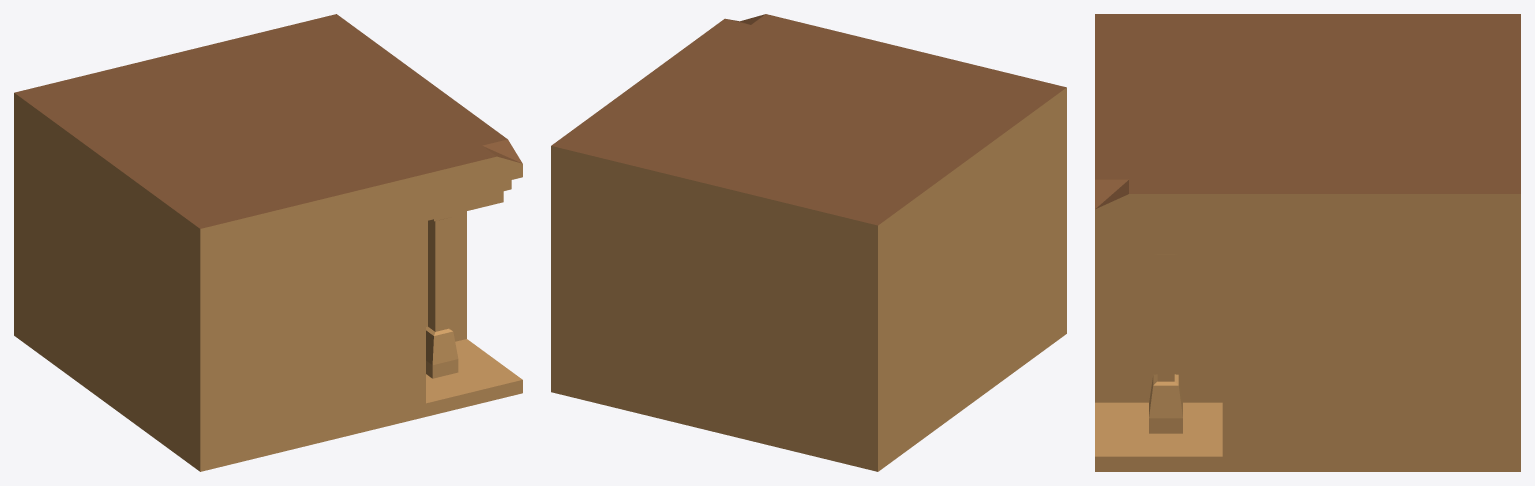
Rendered from india_hindu-wall-interior-corner.fbx.
3 renders of one model, left to right at view 1: azimuth 30°, elevation 25°; view 2: azimuth 150°, elevation 25°; view 3: azimuth 270°, elevation 25°, orthographic. The views are drawn at different scales.
Visible parts, largest first — view 1: india_hindu_wall_interior_corner; view 2: india_hindu_wall_interior_corner; view 3: india_hindu_wall_interior_corner.
Part boxes in pixels (x1,y1,x2,y2): india_hindu_wall_interior_corner: (14,14,522,471); india_hindu_wall_interior_corner: (551,14,1066,471); india_hindu_wall_interior_corner: (1095,14,1520,471).
Bounding box in the file's own units: 200 × 144 × 200.
